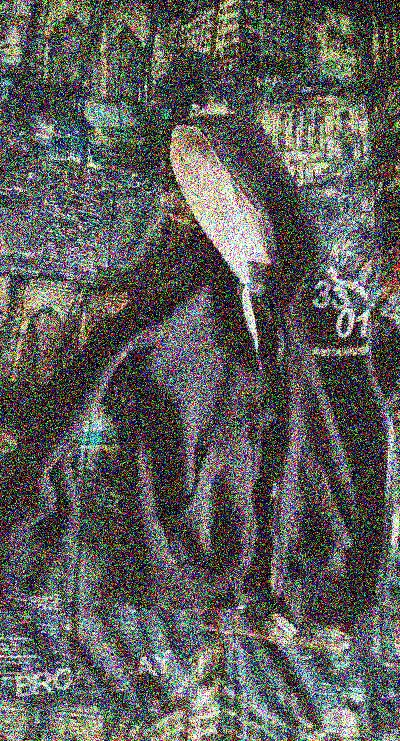Hoodie: (5, 64, 400, 700)
